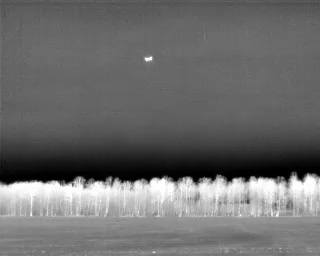DRONE: (141, 51, 158, 67)
